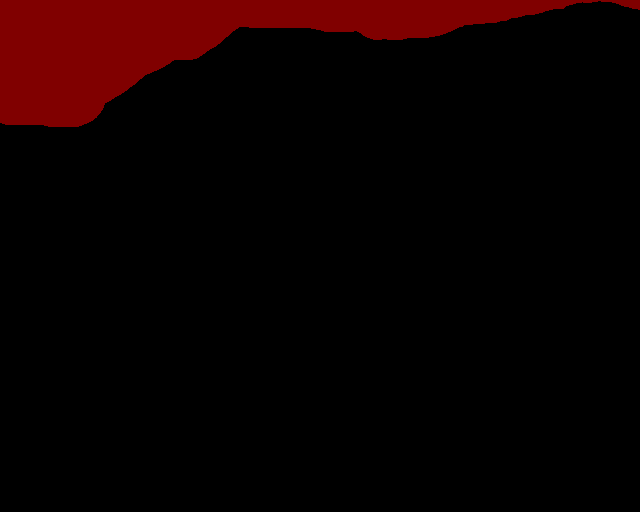Sky: (1, 1, 639, 127)
